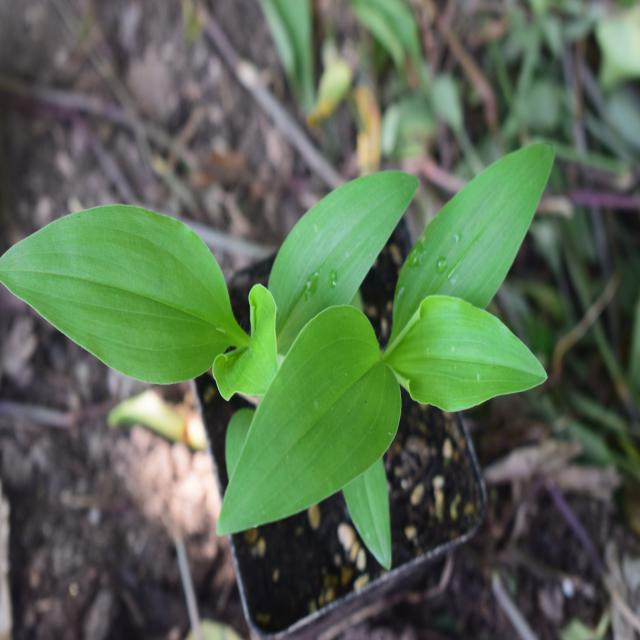Common Dayflower: (219, 115, 560, 578), (0, 176, 224, 412)
